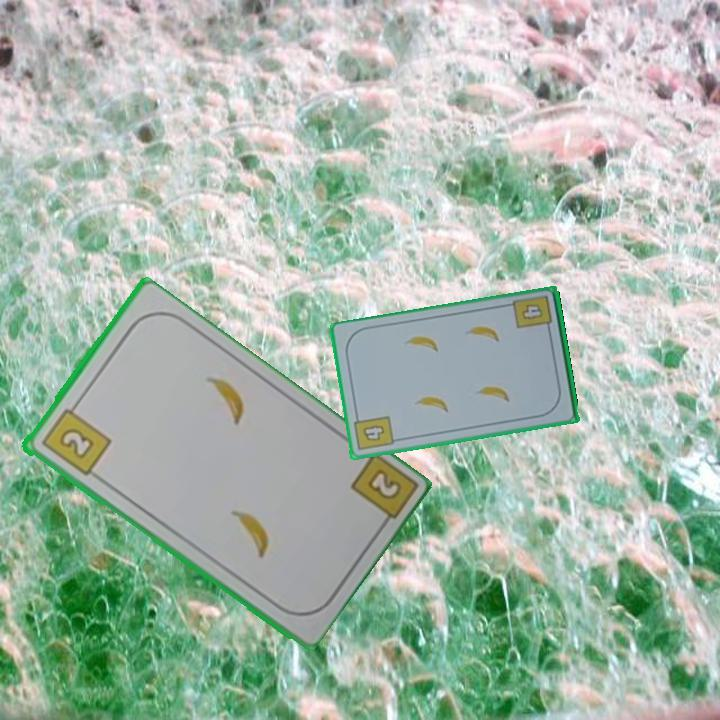2b: (37, 399, 113, 479), (363, 465, 405, 503)
4b: (351, 410, 397, 454), (510, 292, 555, 336)
